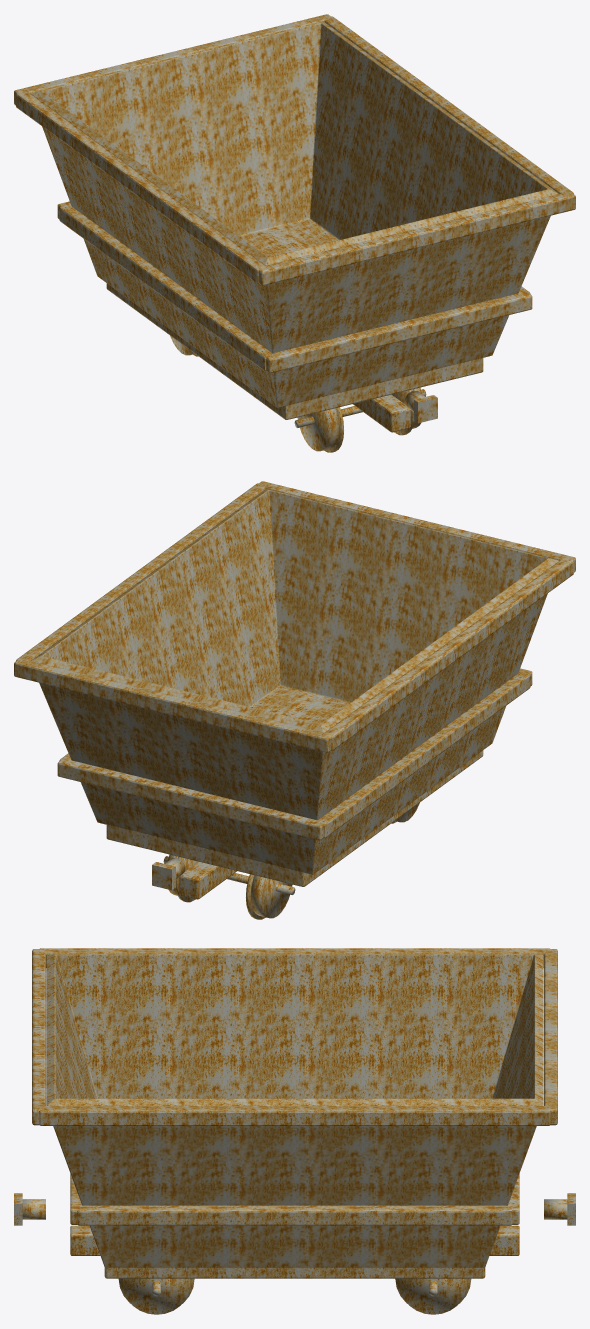
The model's file is mine_cart.gltf.
3 views of the same model, one above another, from view 1: azimuth 30°, elevation 25°; view 2: azimuth 150°, elevation 25°; view 3: azimuth 270°, elevation 25° (orthographic). The views are drawn at different scales.
Parts seen in each view (by area): view 1: CART_Body, CART_Rim_172a, CART_Rim_172c, CART_Rim_100a, CART_Rim_100c, CART_Frame, CART, CART_Rim_172d, CART_Rim_172b, CART_Beam; view 2: CART_Body, CART_Rim_172b, CART_Rim_172c, CART_Rim_100b, CART_Rim_100c, CART_Frame, CART, CART_Rim_172d, CART_Rim_172a, CART_Beam; view 3: CART_Body, CART_Rim_172d, CART_Rim_100d, CART, CART_Frame, CART_Rim_172c, CART_Rim_172a, CART_Rim_172b, CART_Beam.
Boxes of the visible parts, x1,y1,x2,y2 form: CART_Body: (31, 22, 558, 407); CART_Rim_172a: (258, 191, 575, 285); CART_Rim_172c: (16, 91, 265, 283); CART_Rim_100a: (266, 292, 532, 373); CART_Rim_100c: (59, 206, 271, 371); CART_Frame: (106, 283, 483, 419); CART: (170, 335, 437, 452); CART_Rim_172d: (324, 16, 573, 193); CART_Rim_172b: (14, 14, 330, 105); CART_Beam: (353, 394, 410, 432); CART_Body: (31, 489, 558, 874); CART_Rim_172b: (14, 658, 331, 752); CART_Rim_172c: (325, 558, 573, 750); CART_Rim_100b: (57, 759, 323, 840); CART_Rim_100c: (318, 673, 530, 838); CART_Frame: (106, 750, 483, 886); CART: (152, 707, 419, 919); CART_Rim_172d: (16, 483, 265, 660); CART_Rim_172a: (258, 481, 575, 572); CART_Beam: (179, 861, 236, 899); CART_Body: (46, 954, 543, 1267); CART_Rim_172d: (39, 1106, 550, 1125); CART_Rim_100d: (77, 1205, 512, 1225); CART: (14, 1193, 575, 1314); CART_Frame: (104, 1267, 485, 1278); CART_Rim_172c: (40, 948, 549, 967); CART_Rim_172a: (32, 949, 45, 1125); CART_Rim_172b: (544, 949, 557, 1125); CART_Beam: (70, 1225, 519, 1255).
Bounding box in the file's own units: 2.24 × 1.71 × 3.25.
Materials: 2 (2 with a texture image).
